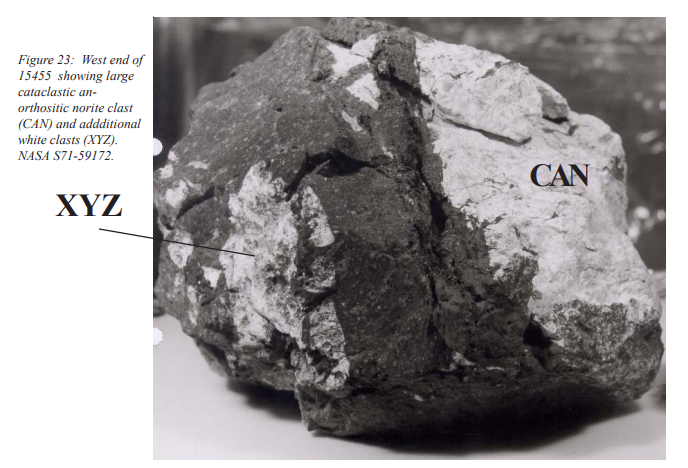Breccia: (177, 78, 663, 447), (223, 22, 609, 430)
